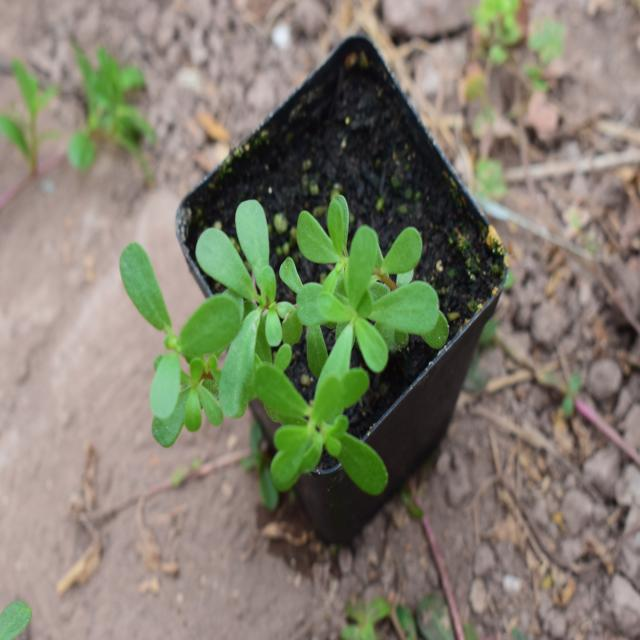purslane: (126, 185, 434, 497)
